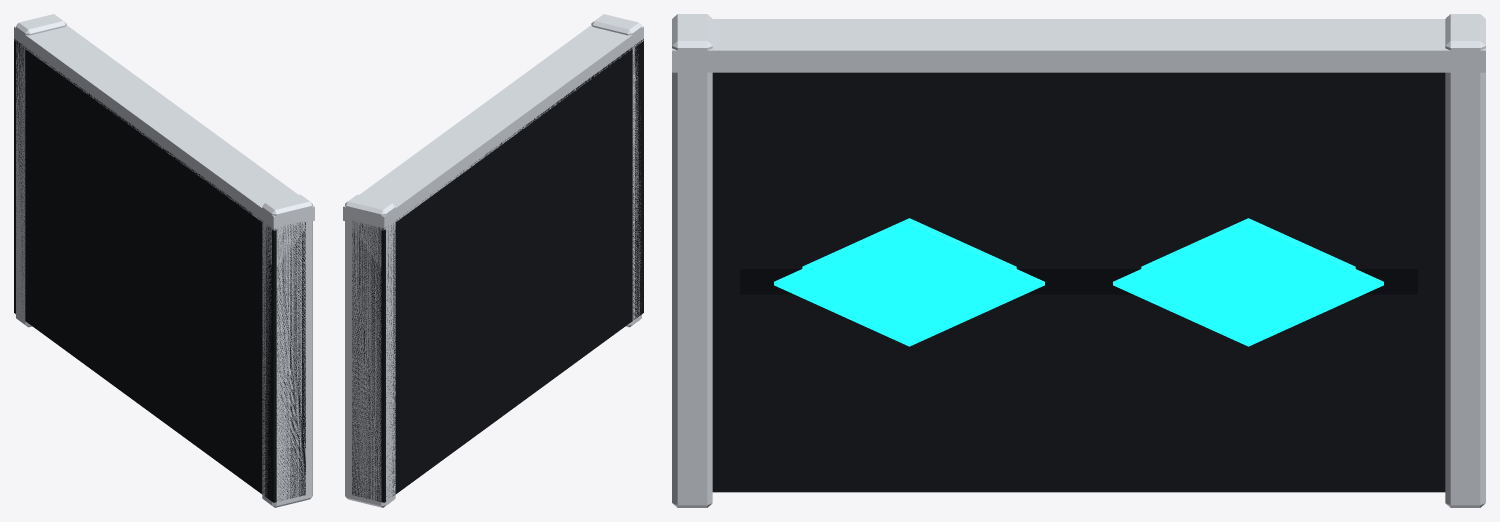
Rendered from skirt_neon_diamond.glb.
3 renders of one model, left to right at view 1: azimuth 30°, elevation 25°; view 2: azimuth 150°, elevation 25°; view 3: azimuth 270°, elevation 25°, orthographic. The views are drawn at different scales.
Visible parts, largest first — view 1: skirt_neon_diamond_MID_deco_body, skirt_neon_diamond_HEAD_chrome, skirt_neon_diamond_HEAD_deco_body, skirt_neon_diamond_MID_chrome, skirt_neon_diamond_TAIL_deco_body, skirt_neon_diamond_TAIL_chrome; view 2: skirt_neon_diamond_MID_deco_body, skirt_neon_diamond_TAIL_chrome, skirt_neon_diamond_MID_chrome, skirt_neon_diamond_TAIL_deco_body, skirt_neon_diamond_HEAD_deco_body, skirt_neon_diamond_HEAD_chrome; view 3: skirt_neon_diamond_MID_deco_body, skirt_neon_diamond_MID_chrome, skirt_neon_diamond_MID_deco_neon, skirt_neon_diamond_HEAD_chrome, skirt_neon_diamond_TAIL_chrome, skirt_neon_diamond_HEAD_deco_body, skirt_neon_diamond_TAIL_deco_body, skirt_neon_diamond_MID_deco_trim.
Part boxes in pixels (left/top/right/bottom): skirt_neon_diamond_MID_deco_body: left=35, top=55, right=251, bottom=486; skirt_neon_diamond_HEAD_chrome: left=252, top=191, right=314, bottom=507; skirt_neon_diamond_HEAD_deco_body: left=252, top=213, right=305, bottom=502; skirt_neon_diamond_MID_chrome: left=35, top=32, right=292, bottom=214; skirt_neon_diamond_TAIL_deco_body: left=14, top=38, right=35, bottom=328; skirt_neon_diamond_TAIL_chrome: left=14, top=14, right=76, bottom=327; skirt_neon_diamond_MID_deco_body: left=406, top=54, right=622, bottom=486; skirt_neon_diamond_TAIL_chrome: left=343, top=191, right=405, bottom=507; skirt_neon_diamond_MID_chrome: left=365, top=32, right=622, bottom=214; skirt_neon_diamond_TAIL_deco_body: left=352, top=215, right=405, bottom=502; skirt_neon_diamond_HEAD_deco_body: left=622, top=39, right=643, bottom=328; skirt_neon_diamond_HEAD_chrome: left=581, top=14, right=643, bottom=327; skirt_neon_diamond_MID_deco_body: left=740, top=72, right=1417, bottom=492; skirt_neon_diamond_MID_chrome: left=740, top=19, right=1417, bottom=72; skirt_neon_diamond_MID_deco_neon: left=774, top=218, right=1383, bottom=346; skirt_neon_diamond_HEAD_chrome: left=672, top=14, right=739, bottom=507; skirt_neon_diamond_TAIL_chrome: left=1418, top=14, right=1485, bottom=507; skirt_neon_diamond_HEAD_deco_body: left=712, top=72, right=739, bottom=492; skirt_neon_diamond_TAIL_deco_body: left=1418, top=72, right=1445, bottom=492; skirt_neon_diamond_MID_deco_trim: left=740, top=264, right=1417, bottom=294.
Size of the model in its own units: 0.057 by 0.38 by 0.6.
